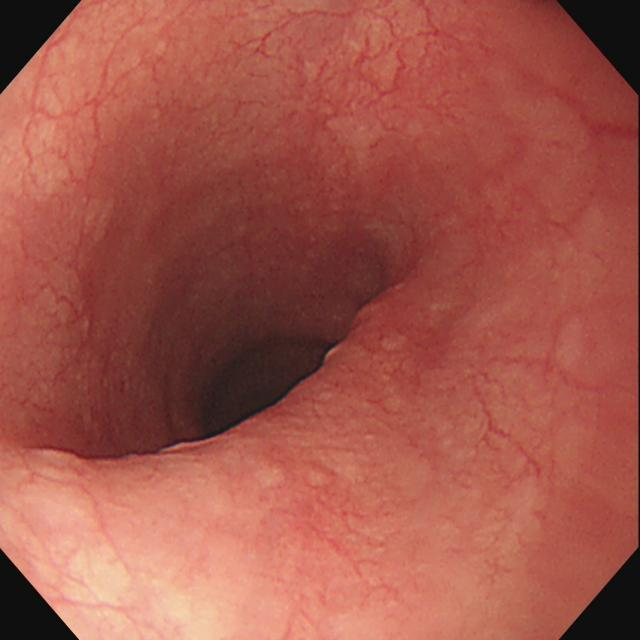E: (167, 309, 349, 454)
